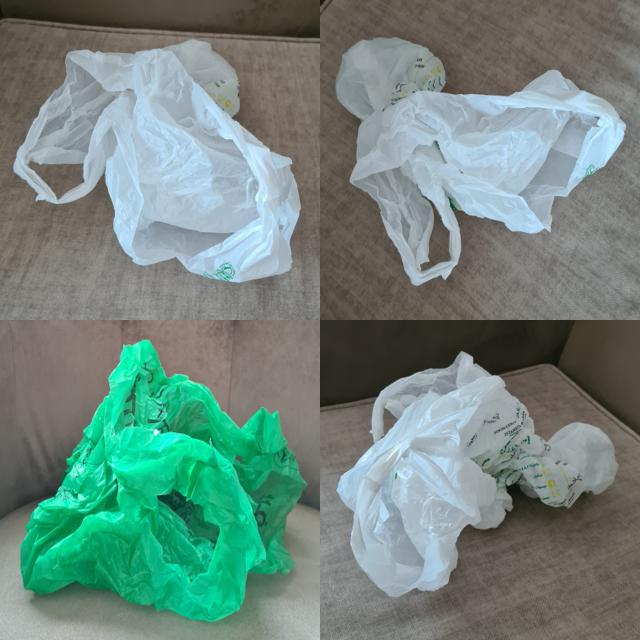Single-layer Plastic: (21, 341, 305, 621), (336, 38, 625, 285), (14, 40, 300, 282), (338, 352, 618, 596)
